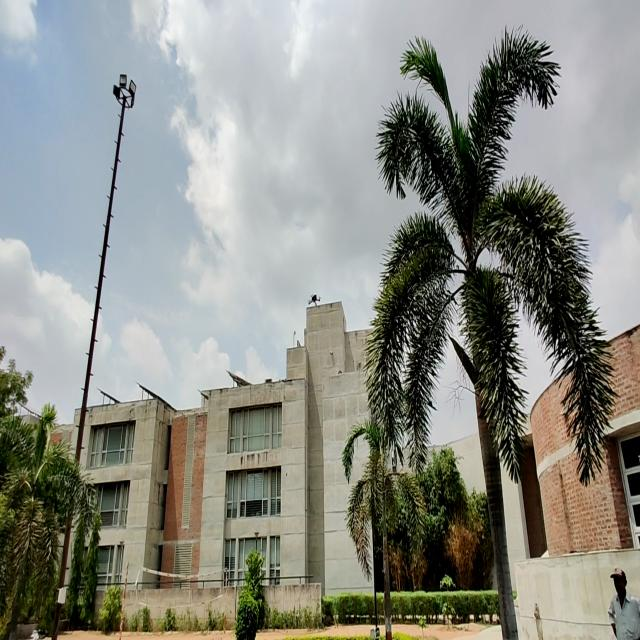drone: (304, 287, 324, 315)
